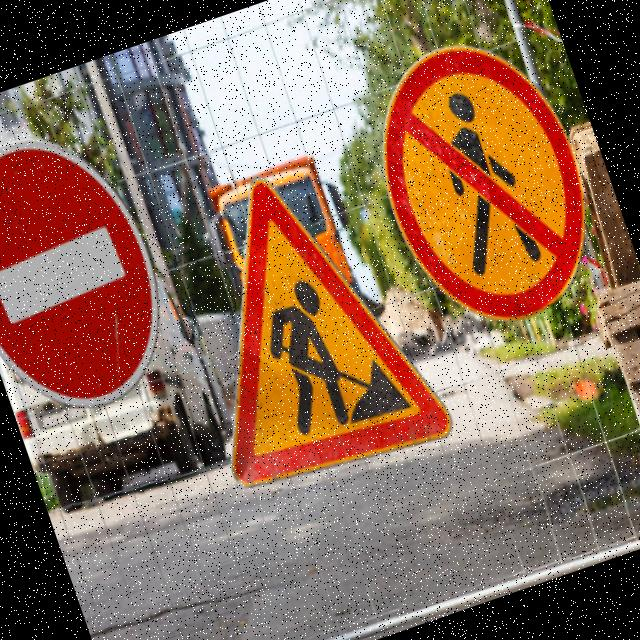do_not_enter: (0, 103, 194, 429)
road_work: (149, 145, 465, 518)
